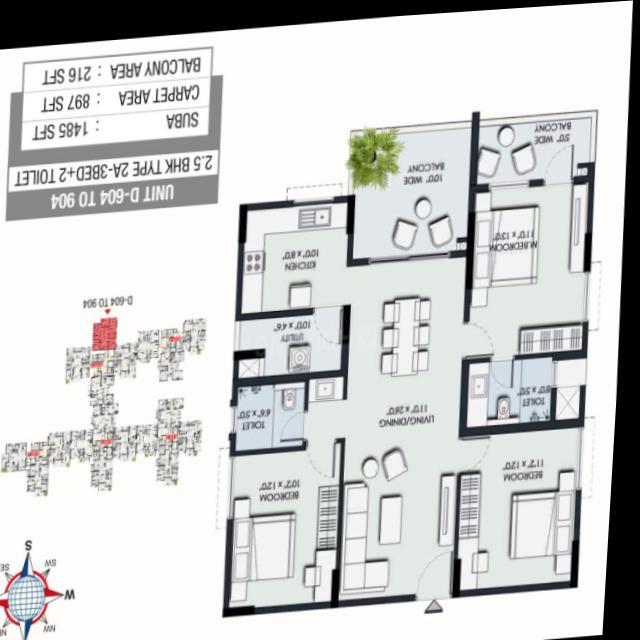Balcony-Sitout: (358, 115, 474, 255), (482, 111, 599, 185)
Bedroom: (461, 428, 586, 587), (240, 441, 353, 603)
Bedroom with Toilet: (467, 175, 599, 434)
Dining: (382, 282, 442, 378)
Enterance-Foyer: (423, 545, 464, 614)
Kitchen: (246, 191, 360, 308)
Living: (351, 439, 465, 600)
Toilet: (475, 348, 587, 425), (245, 369, 358, 444)
Utility: (246, 302, 360, 374)
